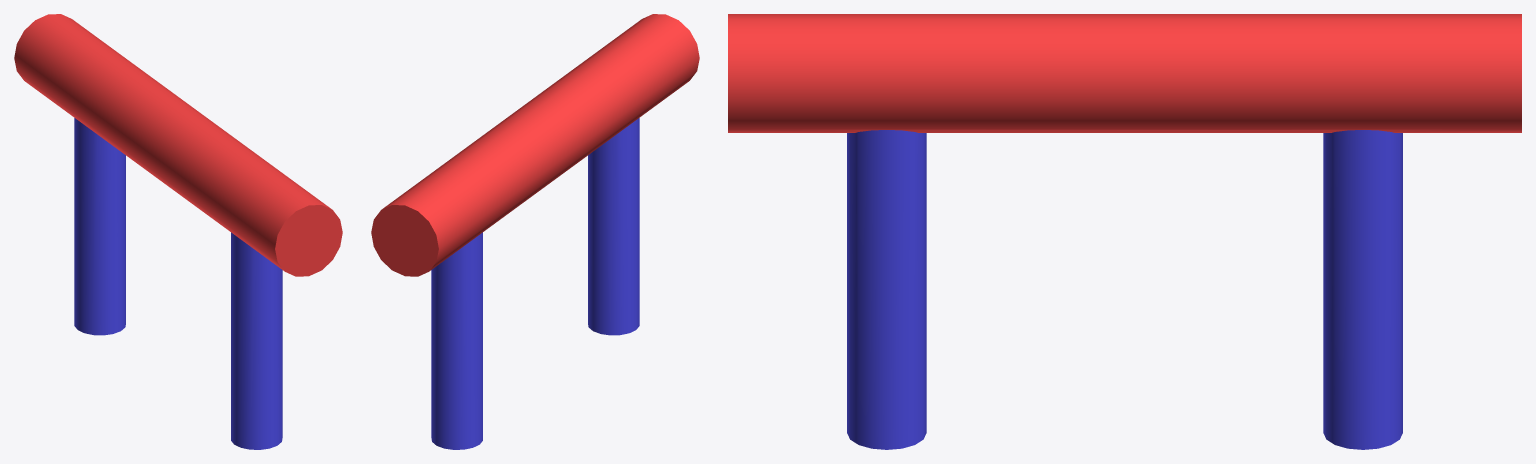
File: SmallLever.FBX
3 renders of one model, left to right at view 1: azimuth 30°, elevation 25°; view 2: azimuth 150°, elevation 25°; view 3: azimuth 270°, elevation 25°, orthographic. The views are drawn at different scales.
Visible parts, largest first — view 1: Cylinder002; view 2: Cylinder002; view 3: Cylinder002.
Boxes of the visible parts, x1=… form: Cylinder002: x1=14, y1=14, x2=342, y2=449; Cylinder002: x1=371, y1=14, x2=699, y2=449; Cylinder002: x1=728, y1=14, x2=1521, y2=449.
Bounding box in the file's own units: 6 × 23 × 40.
